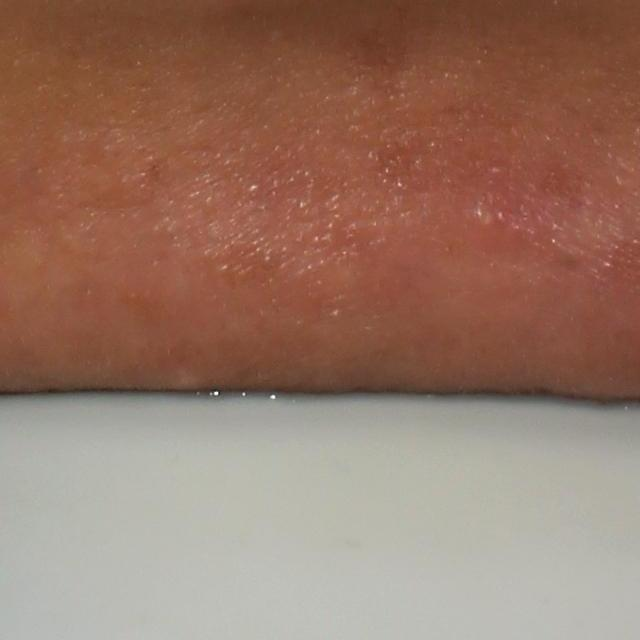pustule: (458, 188, 508, 240)
